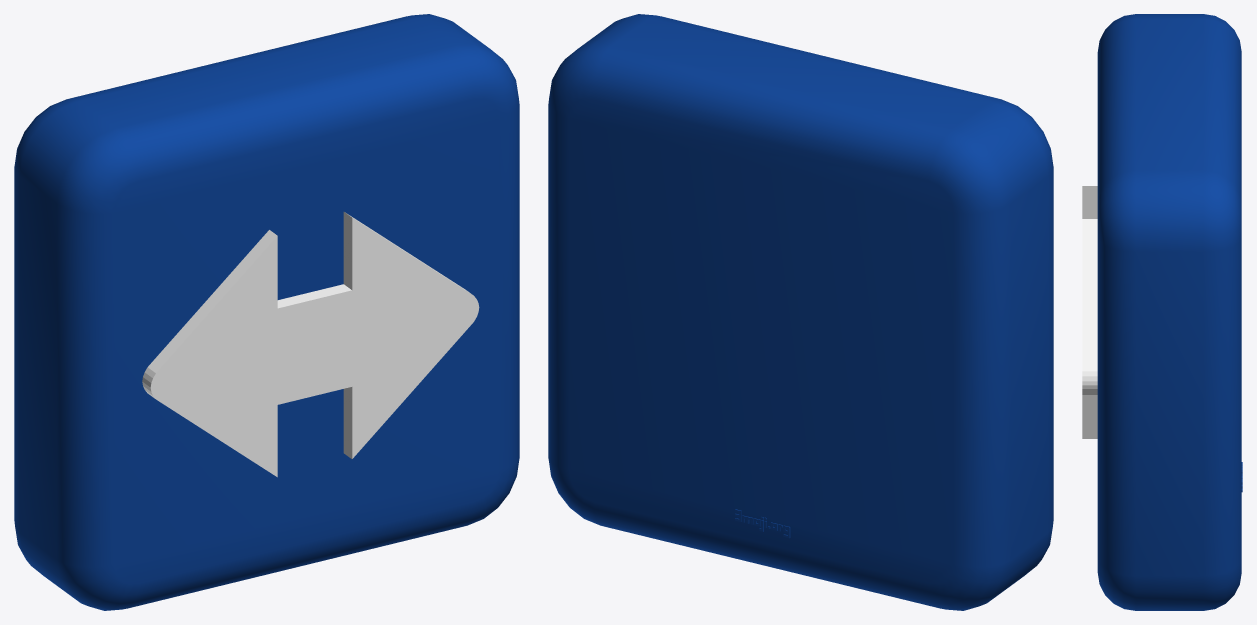
Rendered from left_right_arrow.fbx.
3 renders of one model, left to right at view 1: azimuth 30°, elevation 25°; view 2: azimuth 150°, elevation 25°; view 3: azimuth 270°, elevation 25°, orthographic. The views are drawn at different scales.
Parts seen in each view (by area): view 1: Cube.6331; view 2: Cube.6331; view 3: Cube.6331.
Part boxes in pixels (<box>): Cube.6331: <box>14,14,519,610</box>; Cube.6331: <box>548,14,1053,610</box>; Cube.6331: <box>1082,14,1242,610</box>.
Bounding box in the file's own units: 220 × 220 × 73.37.
1 material, 1 textured.
